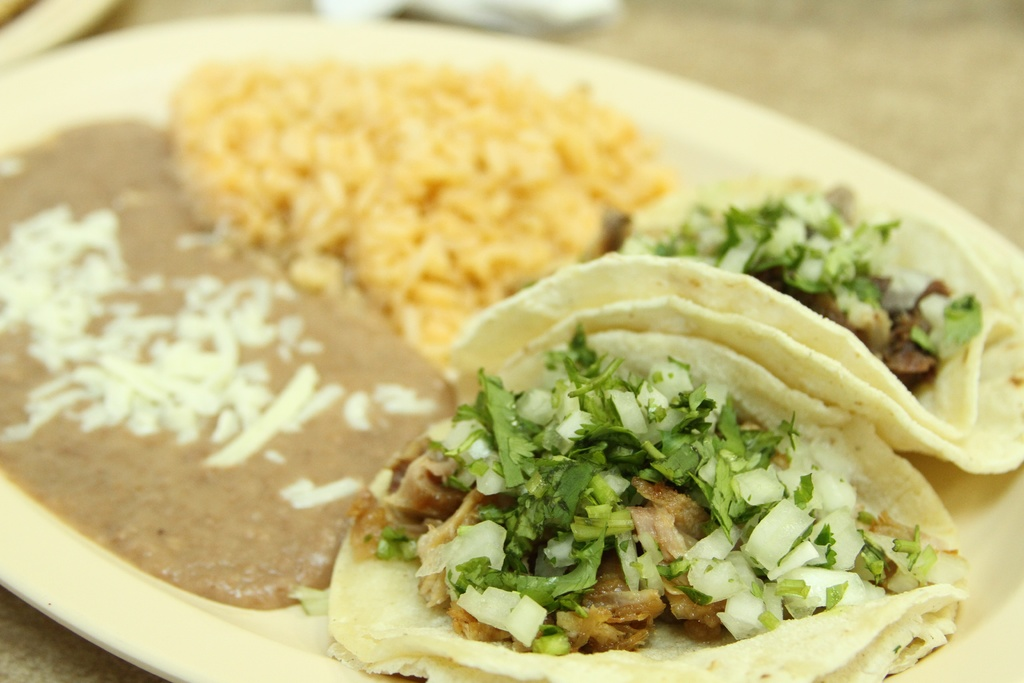taco: (189, 112, 917, 656)
